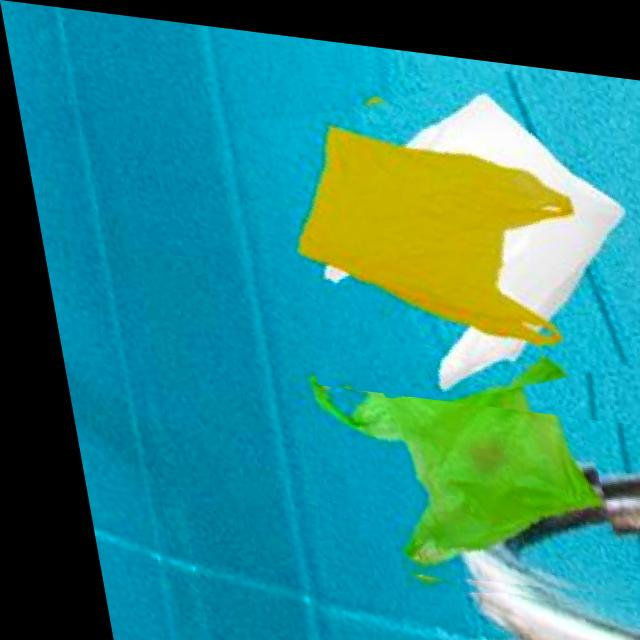plasticcover: (257, 36, 640, 416), (284, 319, 610, 604), (283, 69, 598, 360)
